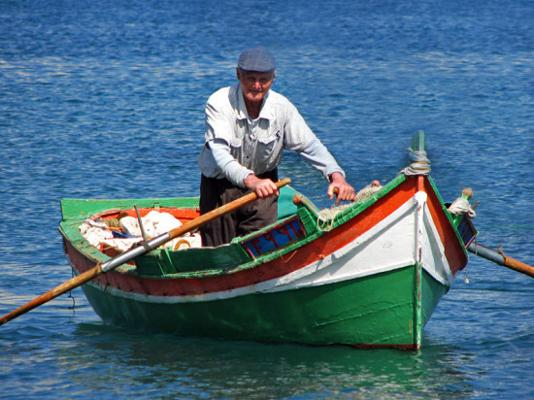person: (200, 48, 356, 250)
